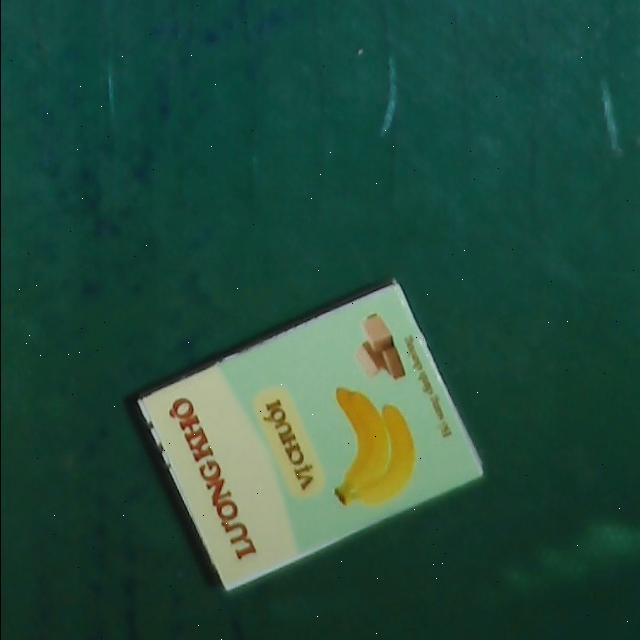chuoi: (130, 275, 486, 597)
